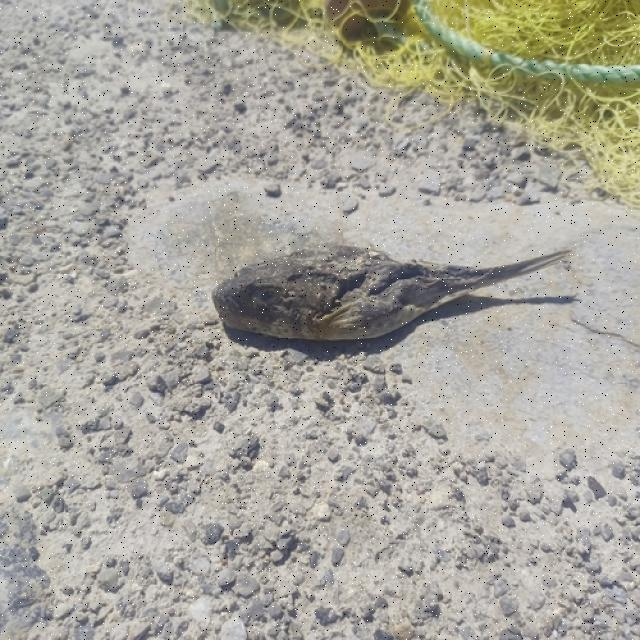Balik: (213, 246, 570, 340)
